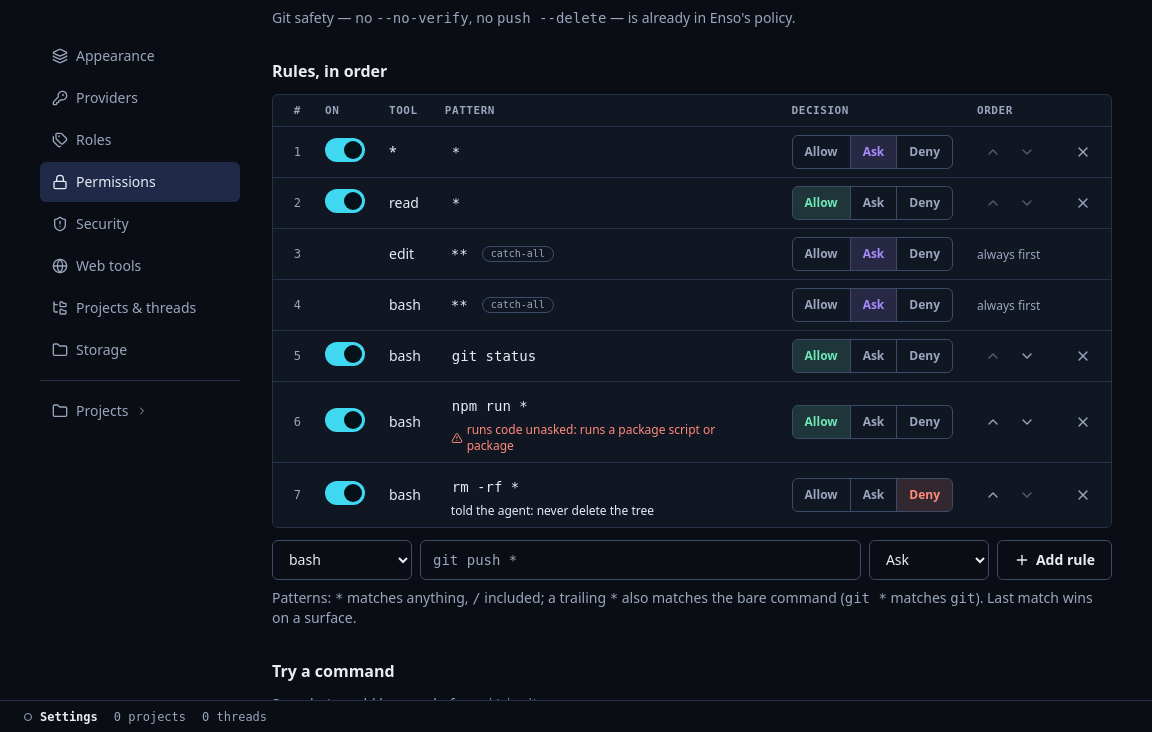
a 422 lists where the schema refused the file, and keeps the draft
(page scrolled)
Click the 5th radio button labelled "Deny".
click(924, 356)  # box [896,340,952,372]
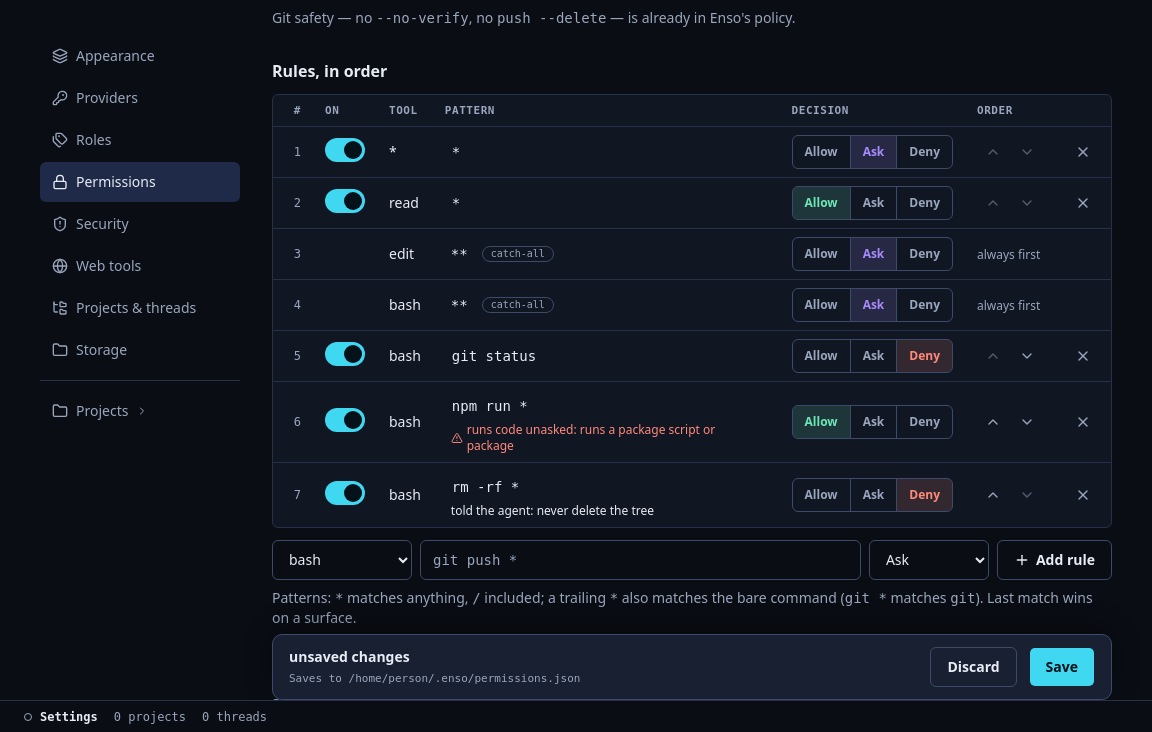
Click the button "Save".
click(1062, 667)  # box [1029,647,1095,687]
(page scrolled)
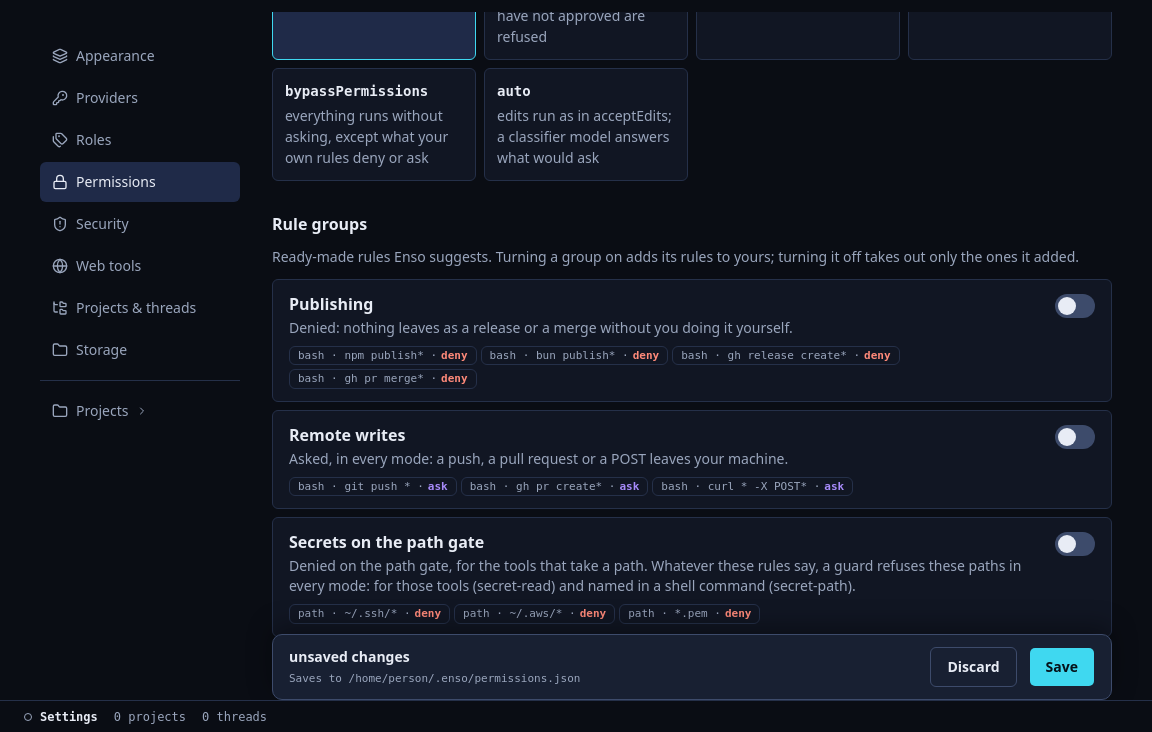
Expected: the text "deny" next to "npm publish*" is shown, [441,349,468,362]
